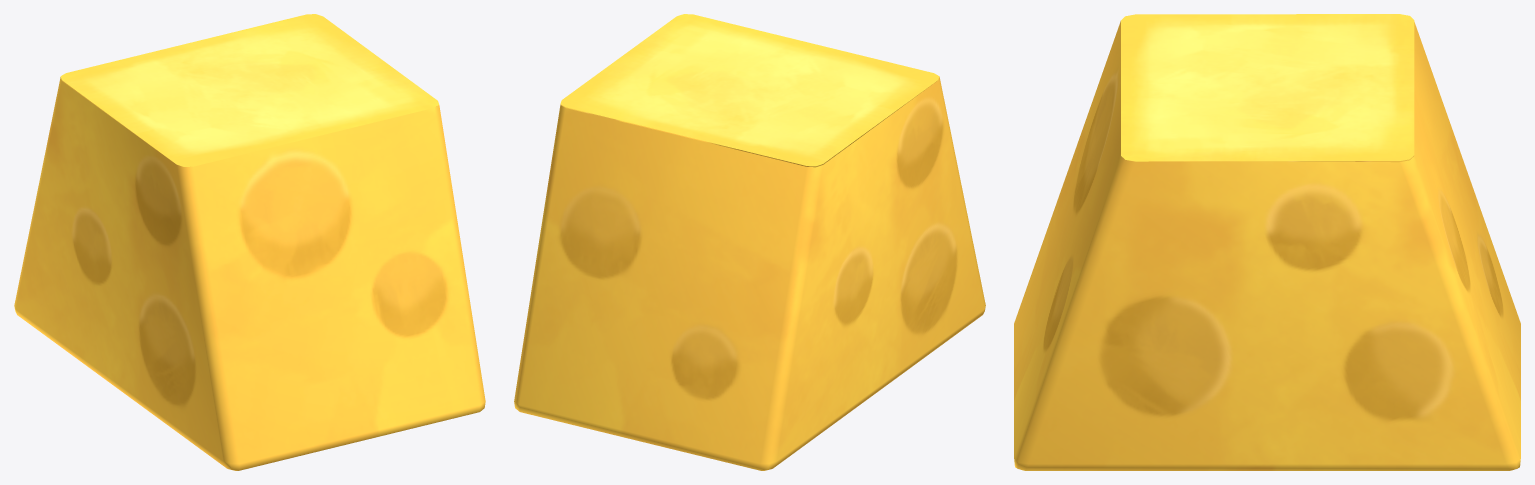
The model's file is cheese_bottom.glb.
The picture shows the model from 3 angles, left to right: view 1: azimuth 30°, elevation 25°; view 2: azimuth 150°, elevation 25°; view 3: azimuth 270°, elevation 25°; orthographic projection. The views are drawn at different scales.
Parts seen in each view (by area): view 1: CheeseSlashedBottomA, CheeseSlashedBottomB; view 2: CheeseSlashedBottomA, CheeseSlashedBottomB; view 3: CheeseSlashedBottomA, CheeseSlashedBottomB.
Part boxes in pixels (<box>): CheeseSlashedBottomA: <box>14,77,485,470</box>; CheeseSlashedBottomB: <box>60,14,439,166</box>; CheeseSlashedBottomA: <box>514,77,985,470</box>; CheeseSlashedBottomB: <box>560,14,939,166</box>; CheeseSlashedBottomA: <box>1014,21,1520,470</box>; CheeseSlashedBottomB: <box>1121,14,1414,161</box>.
Size of the model in its own units: 0.6261 by 0.627 by 0.9125.
Materials: 1 (1 with a texture image).
